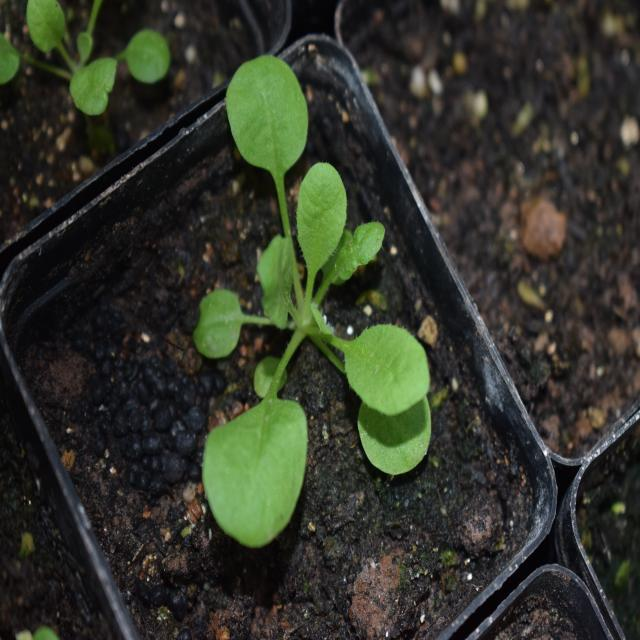Shepherd_Purse: (202, 64, 439, 554)
